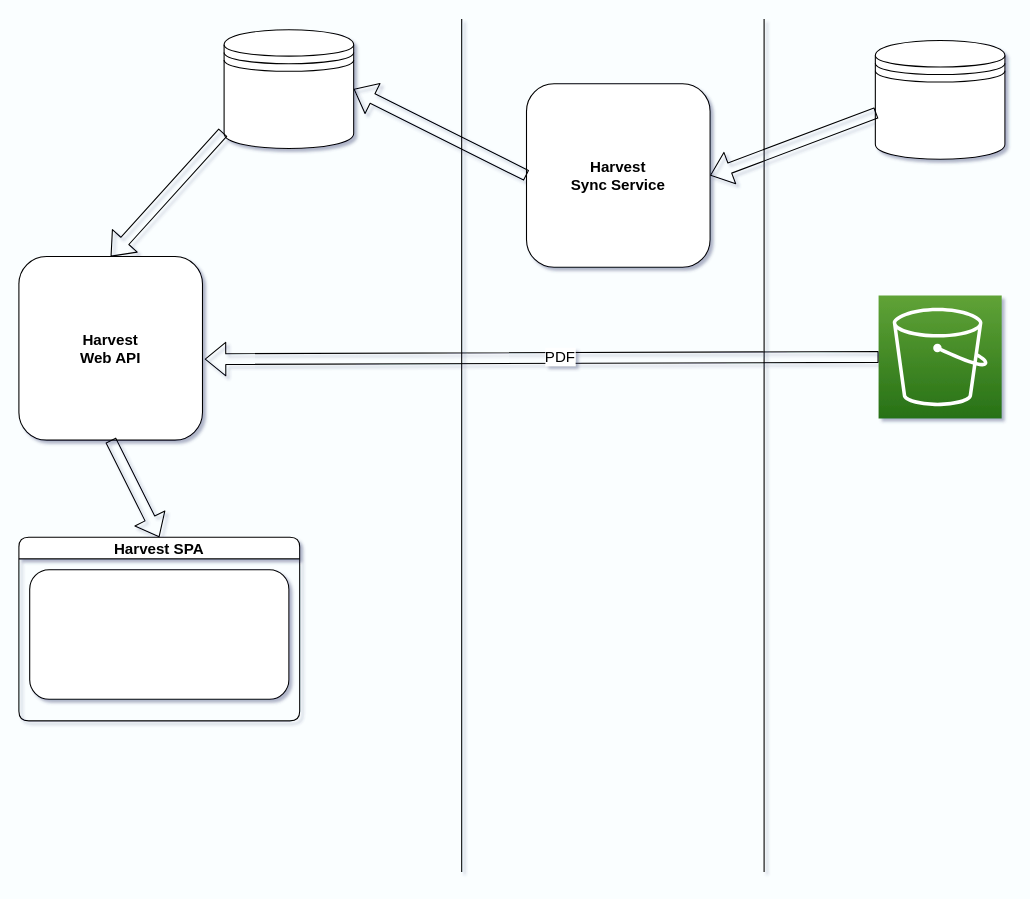
Image size: 1030x899. Some labels were removed from this diagram. Here are the shapes that lost their labels. From the top down, the centre of each, then its label:
At (288,88): "Harvest Doc Database".
At (939,99): "OCR Extract".
